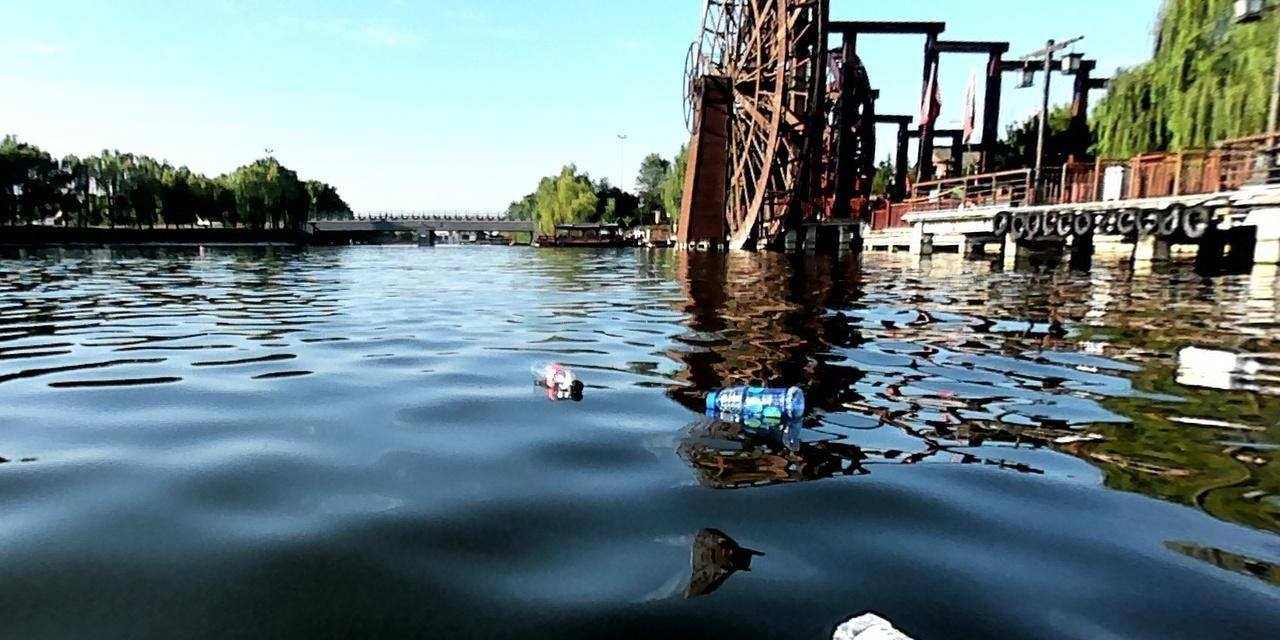bottle: (699, 380, 803, 424), (1172, 341, 1262, 377), (526, 350, 586, 398)
